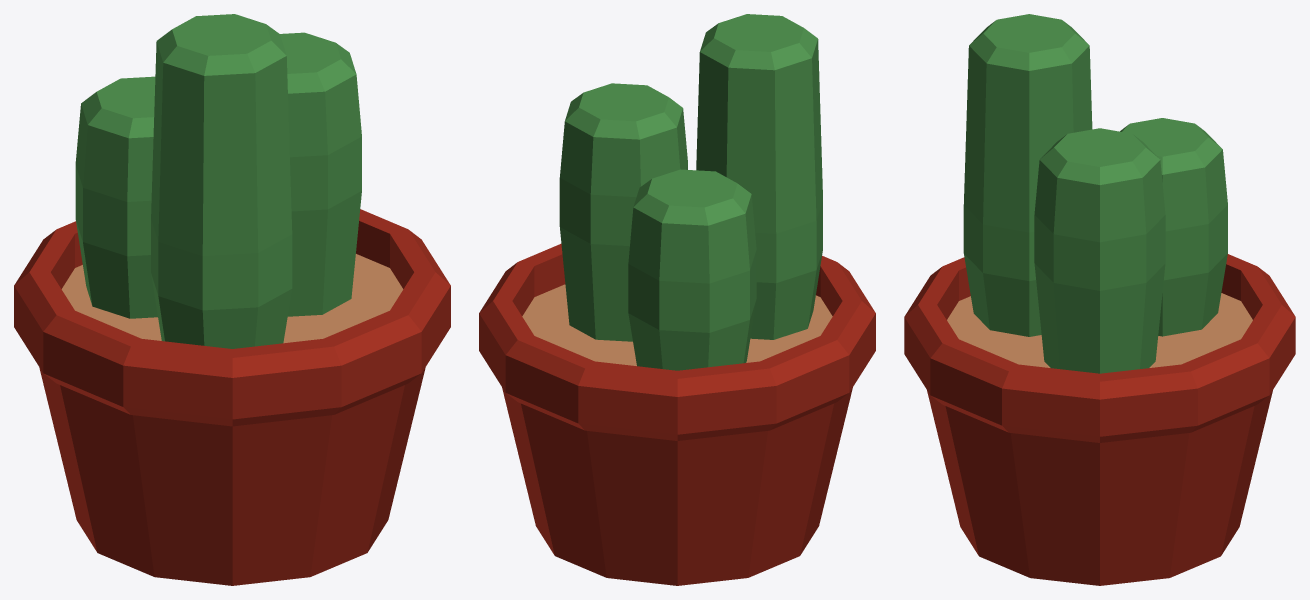
File: Plant B.glb
3 renders of one model, left to right at view 1: azimuth 30°, elevation 25°; view 2: azimuth 150°, elevation 25°; view 3: azimuth 270°, elevation 25°, orthographic. The views are drawn at different scales.
Visible parts, largest first — view 1: Plant B; view 2: Plant B; view 3: Plant B.
Boxes of the visible parts, <box> form: Plant B: <box>14,14,450,585</box>; Plant B: <box>479,14,875,585</box>; Plant B: <box>904,14,1295,585</box>.
Size of the model in its own units: 0.1094 by 0.1454 by 0.1094.
